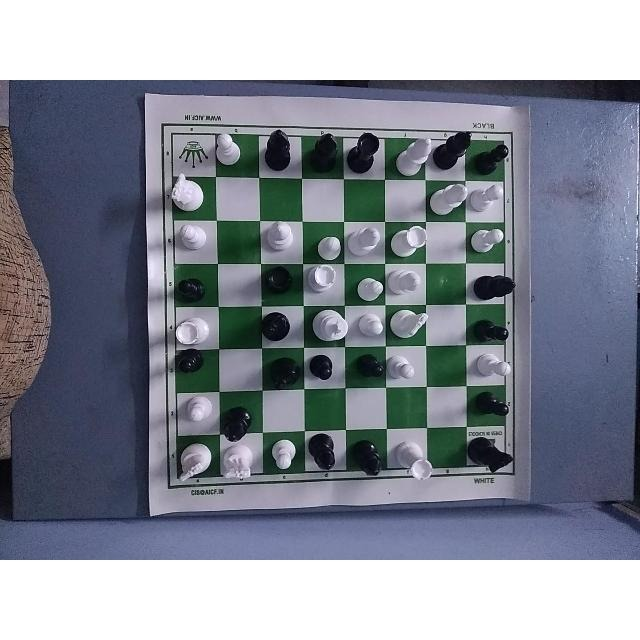black-bishop: (433, 123, 478, 170), (302, 125, 342, 173), (304, 434, 344, 480), (262, 125, 298, 173), (218, 400, 252, 444), (351, 439, 387, 476), (476, 270, 518, 298)
black-knight: (464, 435, 519, 478), (267, 354, 303, 391), (262, 306, 294, 347)
black-pawn: (350, 347, 390, 383), (470, 136, 510, 171), (170, 272, 212, 304), (471, 389, 512, 421), (307, 350, 341, 387), (177, 344, 209, 380), (471, 318, 512, 346)
black-rook: (346, 129, 382, 178), (262, 262, 298, 305)
white-bishop: (428, 178, 472, 220), (392, 132, 432, 176), (344, 222, 383, 262), (388, 265, 424, 303), (259, 222, 299, 253)
white-king: (304, 306, 350, 345)
white-knight: (173, 437, 213, 486), (167, 173, 211, 212), (385, 306, 431, 342), (218, 441, 253, 487)
white-pawn: (212, 131, 255, 170), (472, 223, 510, 259), (170, 219, 205, 257), (270, 432, 300, 476), (473, 353, 517, 383), (182, 392, 218, 428), (309, 229, 346, 263), (352, 276, 388, 308), (388, 347, 420, 382), (352, 307, 383, 343), (471, 184, 507, 209)
white-rook: (395, 438, 439, 485), (388, 219, 429, 259), (301, 261, 340, 297), (176, 308, 208, 350)
